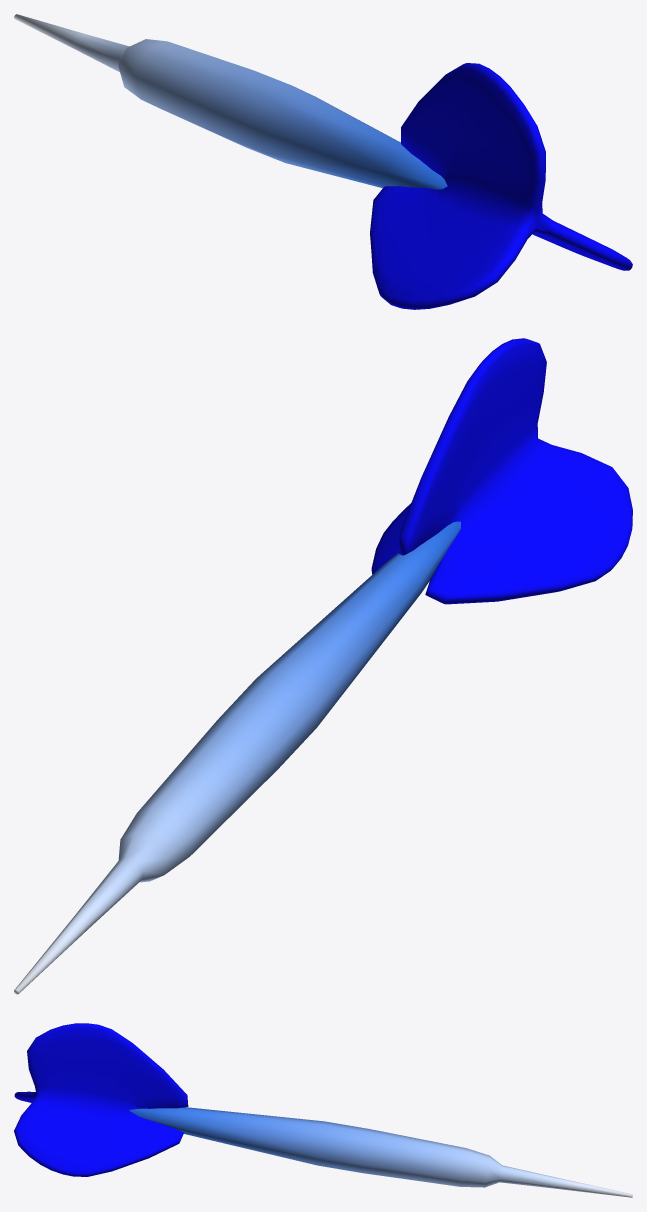
The model's file is Dart_Blue.fbx.
3 views of the same model, one above another, from view 1: azimuth 30°, elevation 25°; view 2: azimuth 150°, elevation 25°; view 3: azimuth 270°, elevation 25° (orthographic). The views are drawn at different scales.
Parts seen in each view (by area): view 1: Dart_Blue; view 2: Dart_Blue; view 3: Dart_Blue.
Part boxes in pixels (x1=…): Dart_Blue: x1=14, y1=14, x2=632, y2=309; Dart_Blue: x1=14, y1=338, x2=632, y2=994; Dart_Blue: x1=14, y1=1023, x2=632, y2=1197.
Bounding box in the file's own units: 0.071 × 0.0918 × 0.2988.
